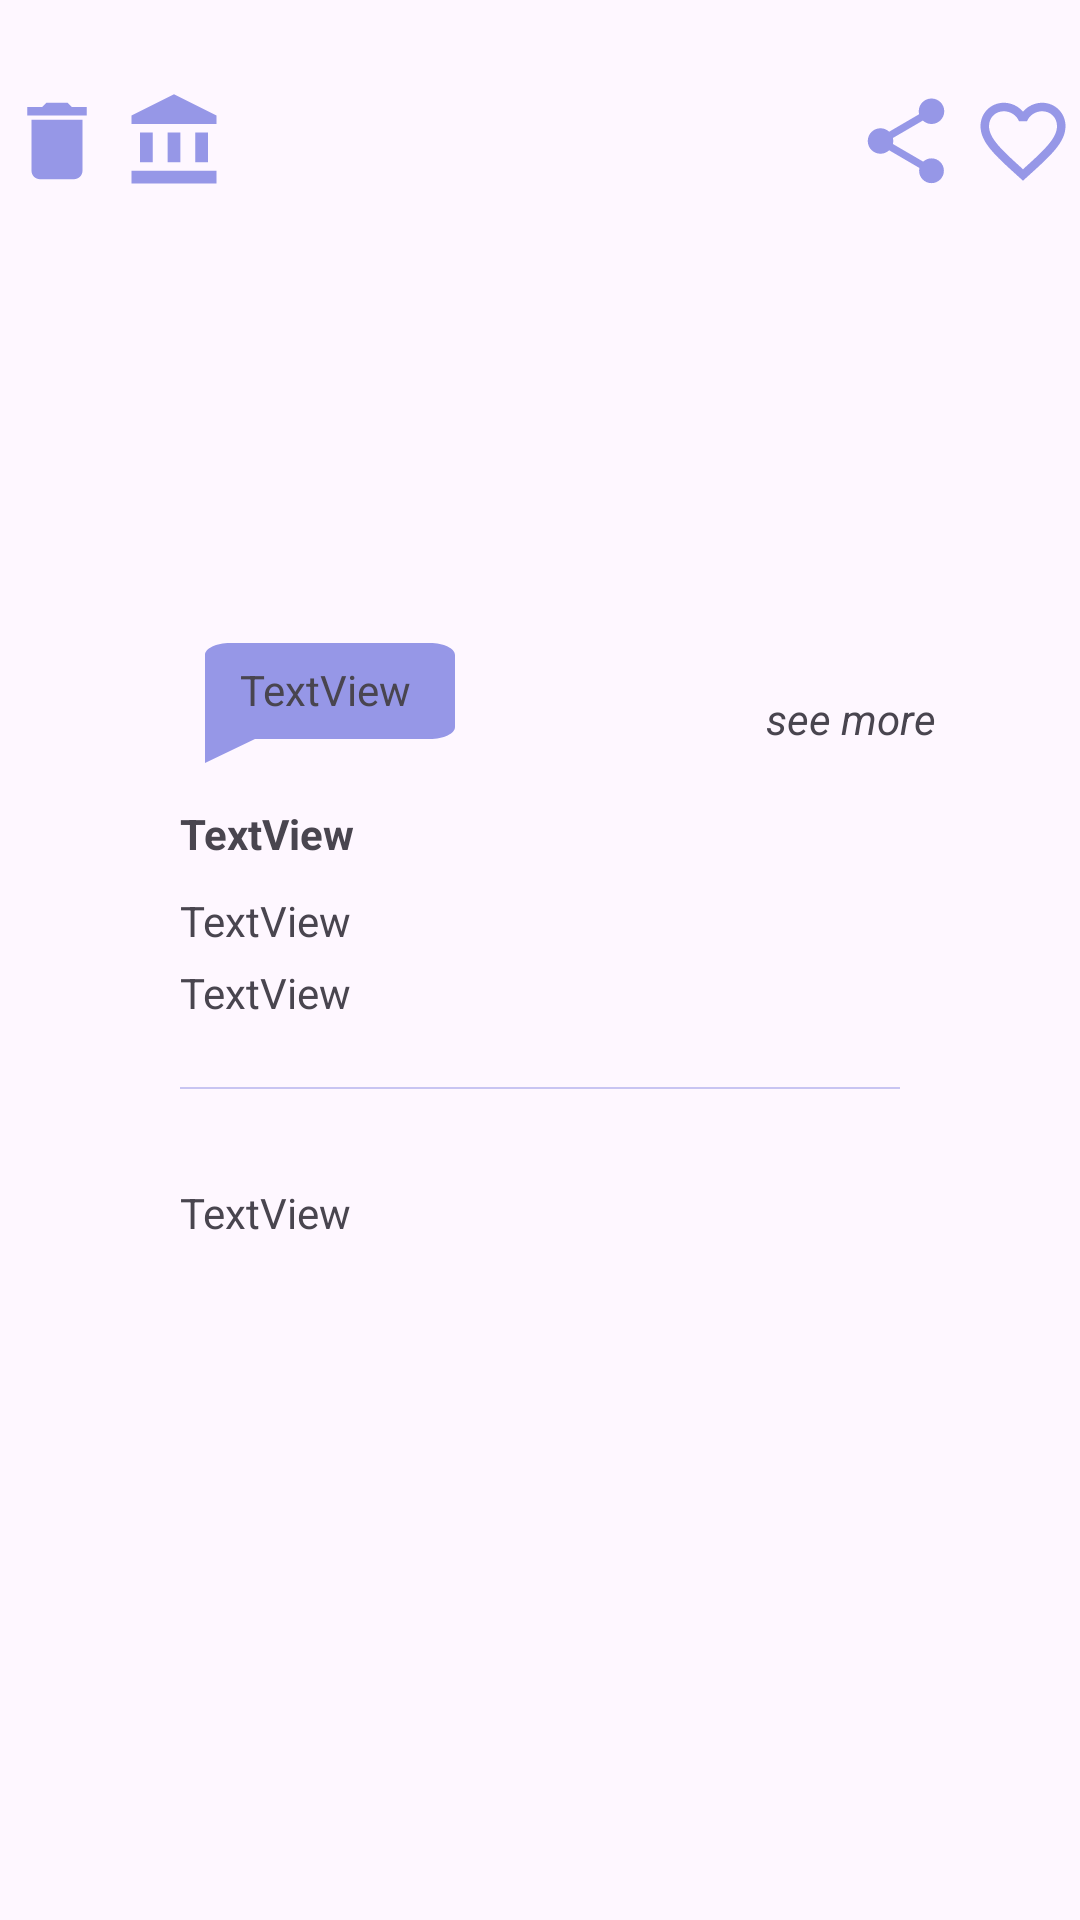

Icon click points for this 1080 x 1920 phone screenshot, format [x,y]:
account balance: [174,139]
chat bubble: [330,703]
delete: [57,141]
favorite border: [1023,141]
share: [906,140]
